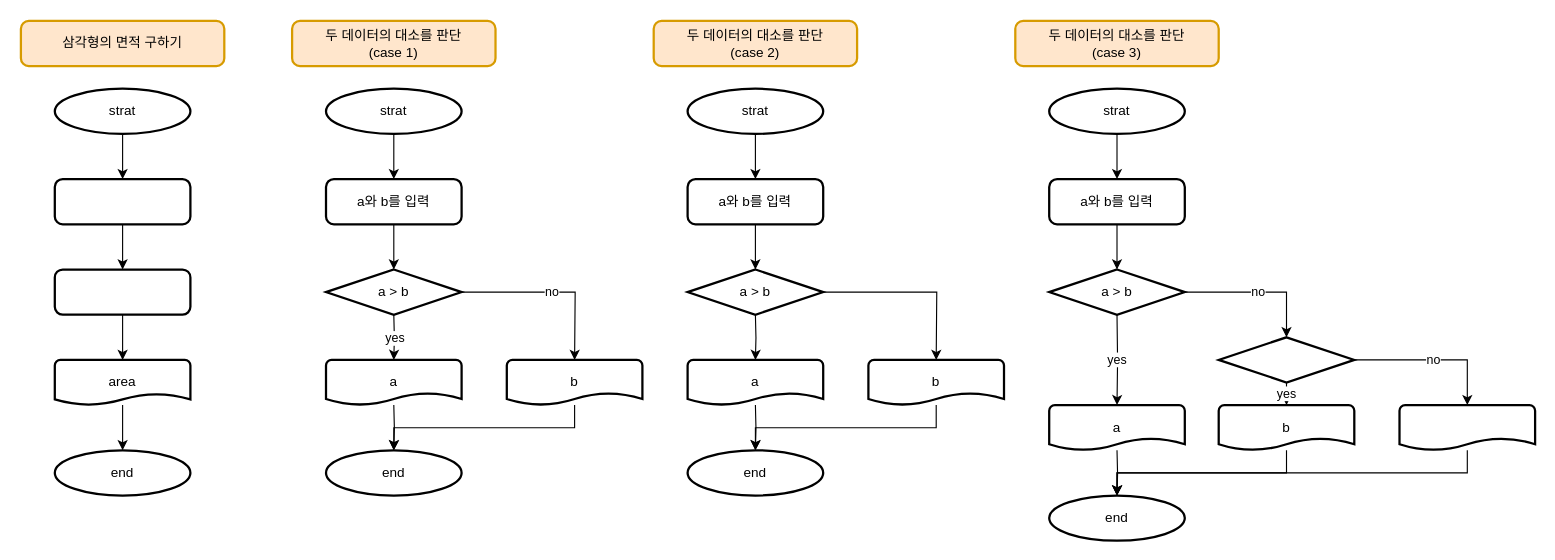
Image size: 1555x560. Some labels were removed from this diagram. The shapes that lost their labels are listed below. From the top down, each one's centre as x and y in pixels, then its label:
At point 122,201: "base와 height 입력".
At point 122,291: "area = base * height / 2".
At point 1286,359: "a<b".
At point 1467,427: "a=b".
